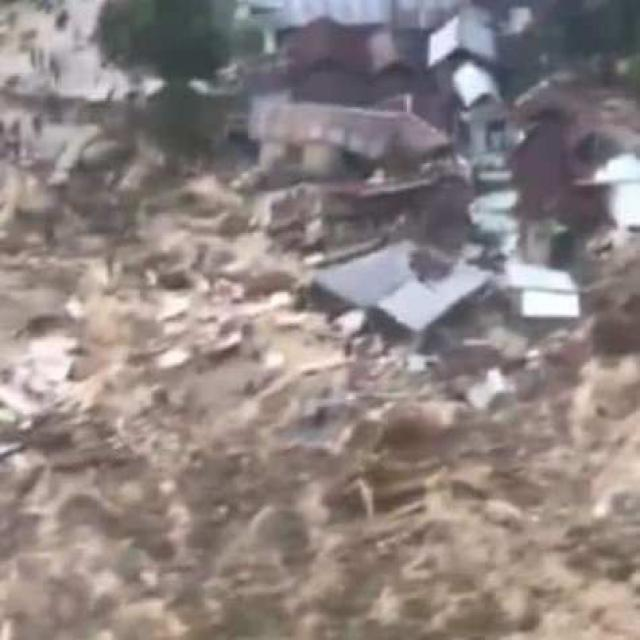collapsed_building: (204, 20, 598, 399)
